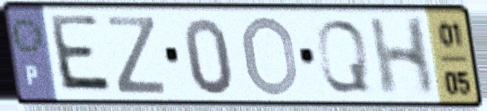0: (180, 12, 237, 98)
E: (48, 12, 117, 98)
H: (366, 14, 438, 100)
O: (240, 13, 302, 99)
Q: (313, 16, 374, 96)
Z: (104, 13, 169, 97)
